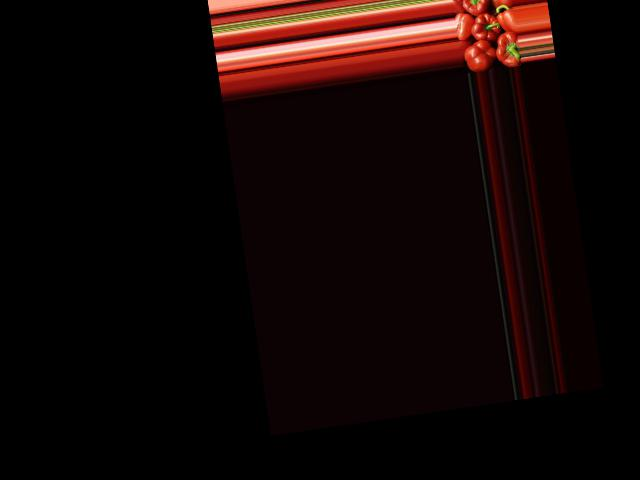bell_pepper: (455, 12, 474, 42)
